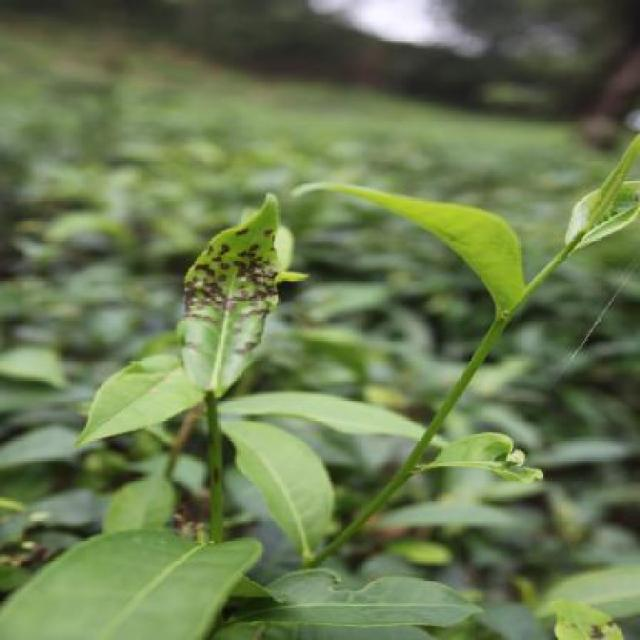Tea Mosquito bug infested leaf: (174, 192, 288, 403)
